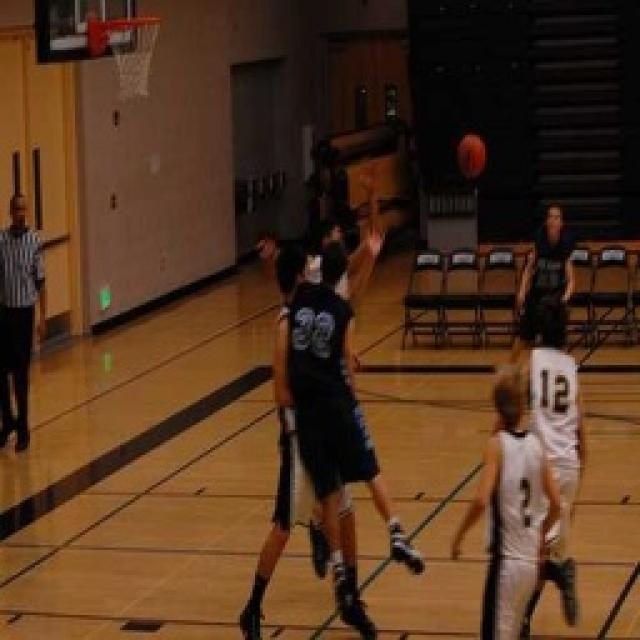rim: (452, 132, 490, 170)
